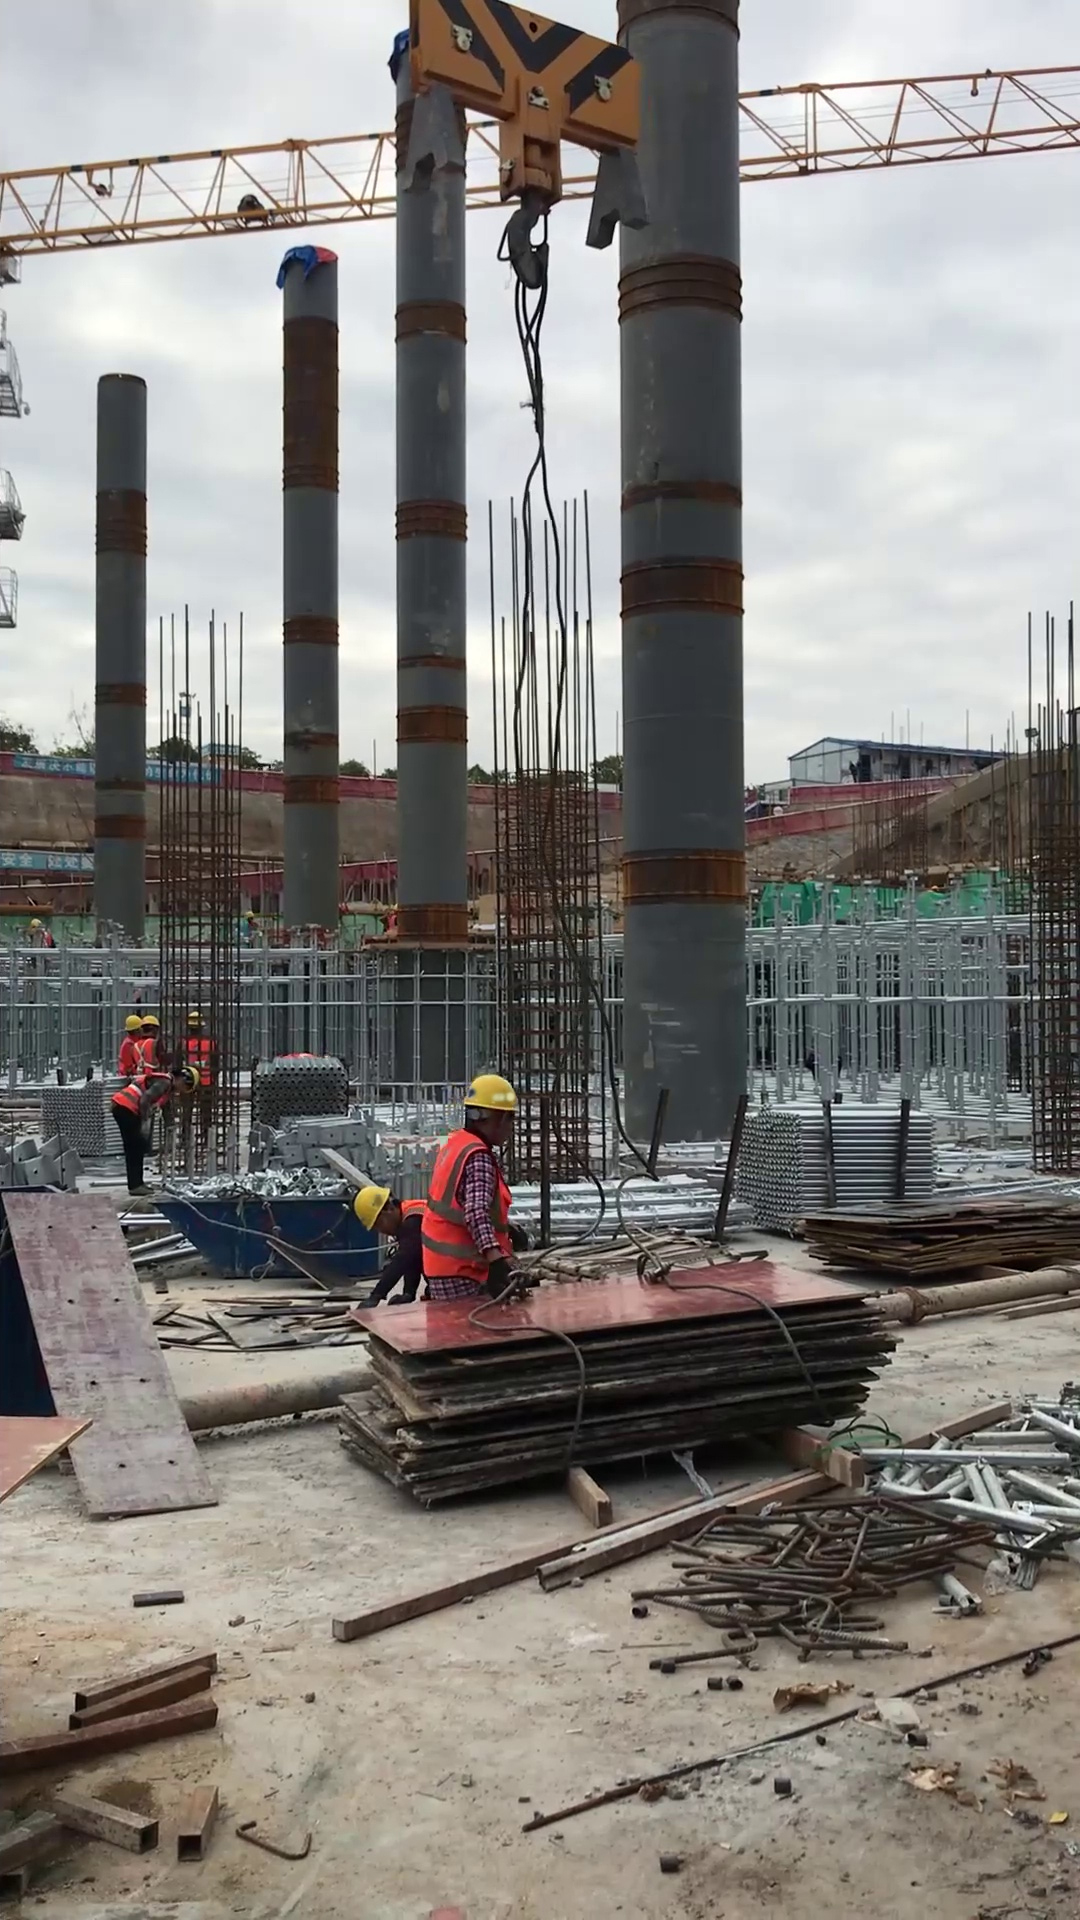board: (326, 1237, 911, 1527), (790, 1175, 1080, 1309)
helmet: (461, 1071, 524, 1120), (351, 1184, 393, 1233), (183, 1064, 203, 1096), (137, 1011, 162, 1034), (124, 1012, 143, 1035)
hook: (381, 1, 664, 313)
hopper: (159, 1187, 383, 1287)
person: (422, 1068, 534, 1308), (110, 1063, 206, 1204), (341, 1185, 429, 1315), (114, 1004, 143, 1085), (132, 1012, 168, 1078)
scaffold: (721, 1094, 942, 1245), (247, 1050, 358, 1144), (36, 1068, 123, 1166)
slogan: (1, 850, 105, 874), (18, 752, 97, 782)
vest: (424, 1125, 519, 1290), (111, 1069, 177, 1114), (132, 1034, 164, 1077), (112, 1033, 136, 1076), (400, 1193, 428, 1225)
